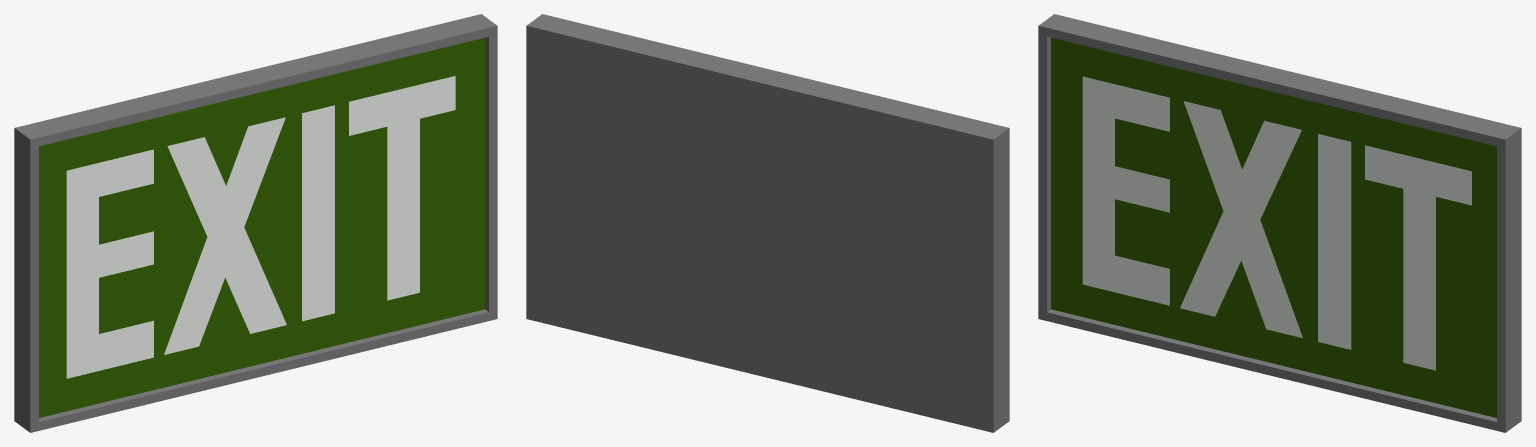
The model's file is Int_ExitSign01_2.fbx.
3 views of the same model, side by side, from view 1: azimuth 30°, elevation 25°; view 2: azimuth 150°, elevation 25°; view 3: azimuth 330°, elevation 25° (orthographic).
Visible parts, largest first — view 1: Int_ExitSign01_2; view 2: Int_ExitSign01_2; view 3: Int_ExitSign01_2.
Part boxes in pixels (x1,y1,x2,y2): Int_ExitSign01_2: (14,14,497,432); Int_ExitSign01_2: (526,14,1009,432); Int_ExitSign01_2: (1038,14,1521,432).
Size of what is drawn, in the model's own units: 50 by 2.98 by 30.
1 material, 1 textured.
